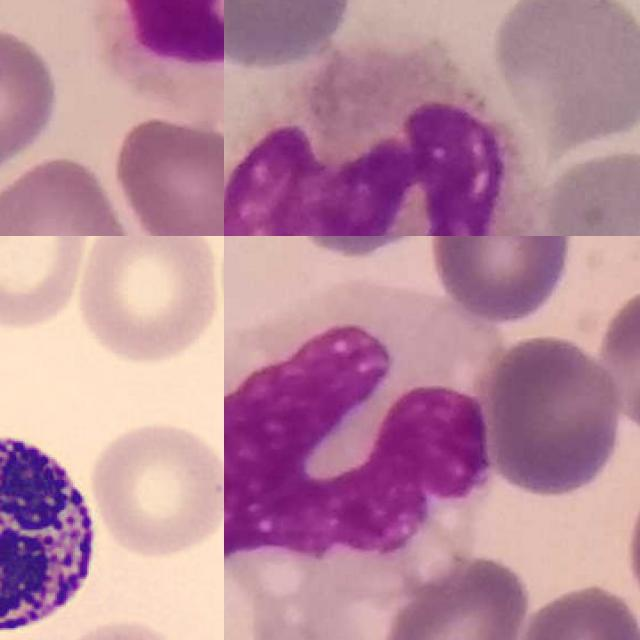Basophil: (0, 414, 108, 640)
Monocyte: (224, 279, 494, 559)
Neutrophil: (224, 42, 529, 236), (89, 0, 224, 117)
RBC: (85, 415, 224, 563), (73, 236, 224, 367), (0, 236, 90, 330)
